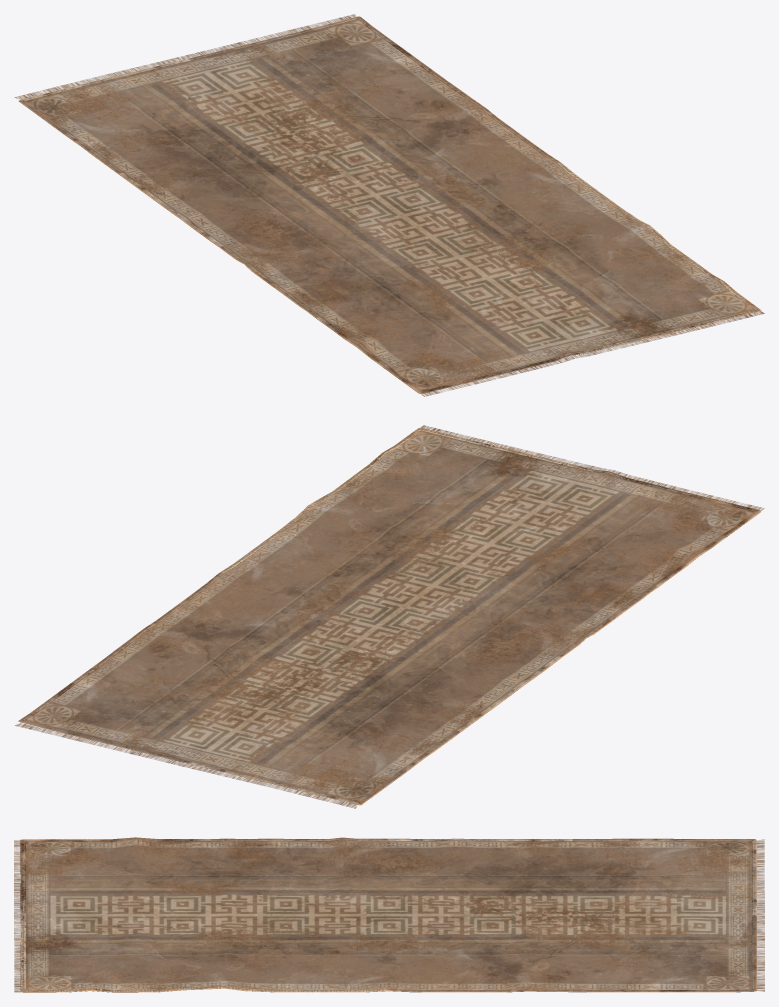
Rendered from xi_dsp_carpet.gltf.
3 renders of one model, top to bottom at view 1: azimuth 30°, elevation 25°; view 2: azimuth 150°, elevation 25°; view 3: azimuth 270°, elevation 25°, orthographic. The views are drawn at different scales.
Parts seen in each view (by area): view 1: xi_dsp_carpet; view 2: xi_dsp_carpet; view 3: xi_dsp_carpet.
Part boxes in pixels (x1,y1,x2,y2): xi_dsp_carpet: (14,14,764,396); xi_dsp_carpet: (14,425,764,808); xi_dsp_carpet: (14,837,764,992).
Size of the model in its own units: 3.99 by 0.0512 by 8.25.
Materials: 1 (1 with a texture image).
